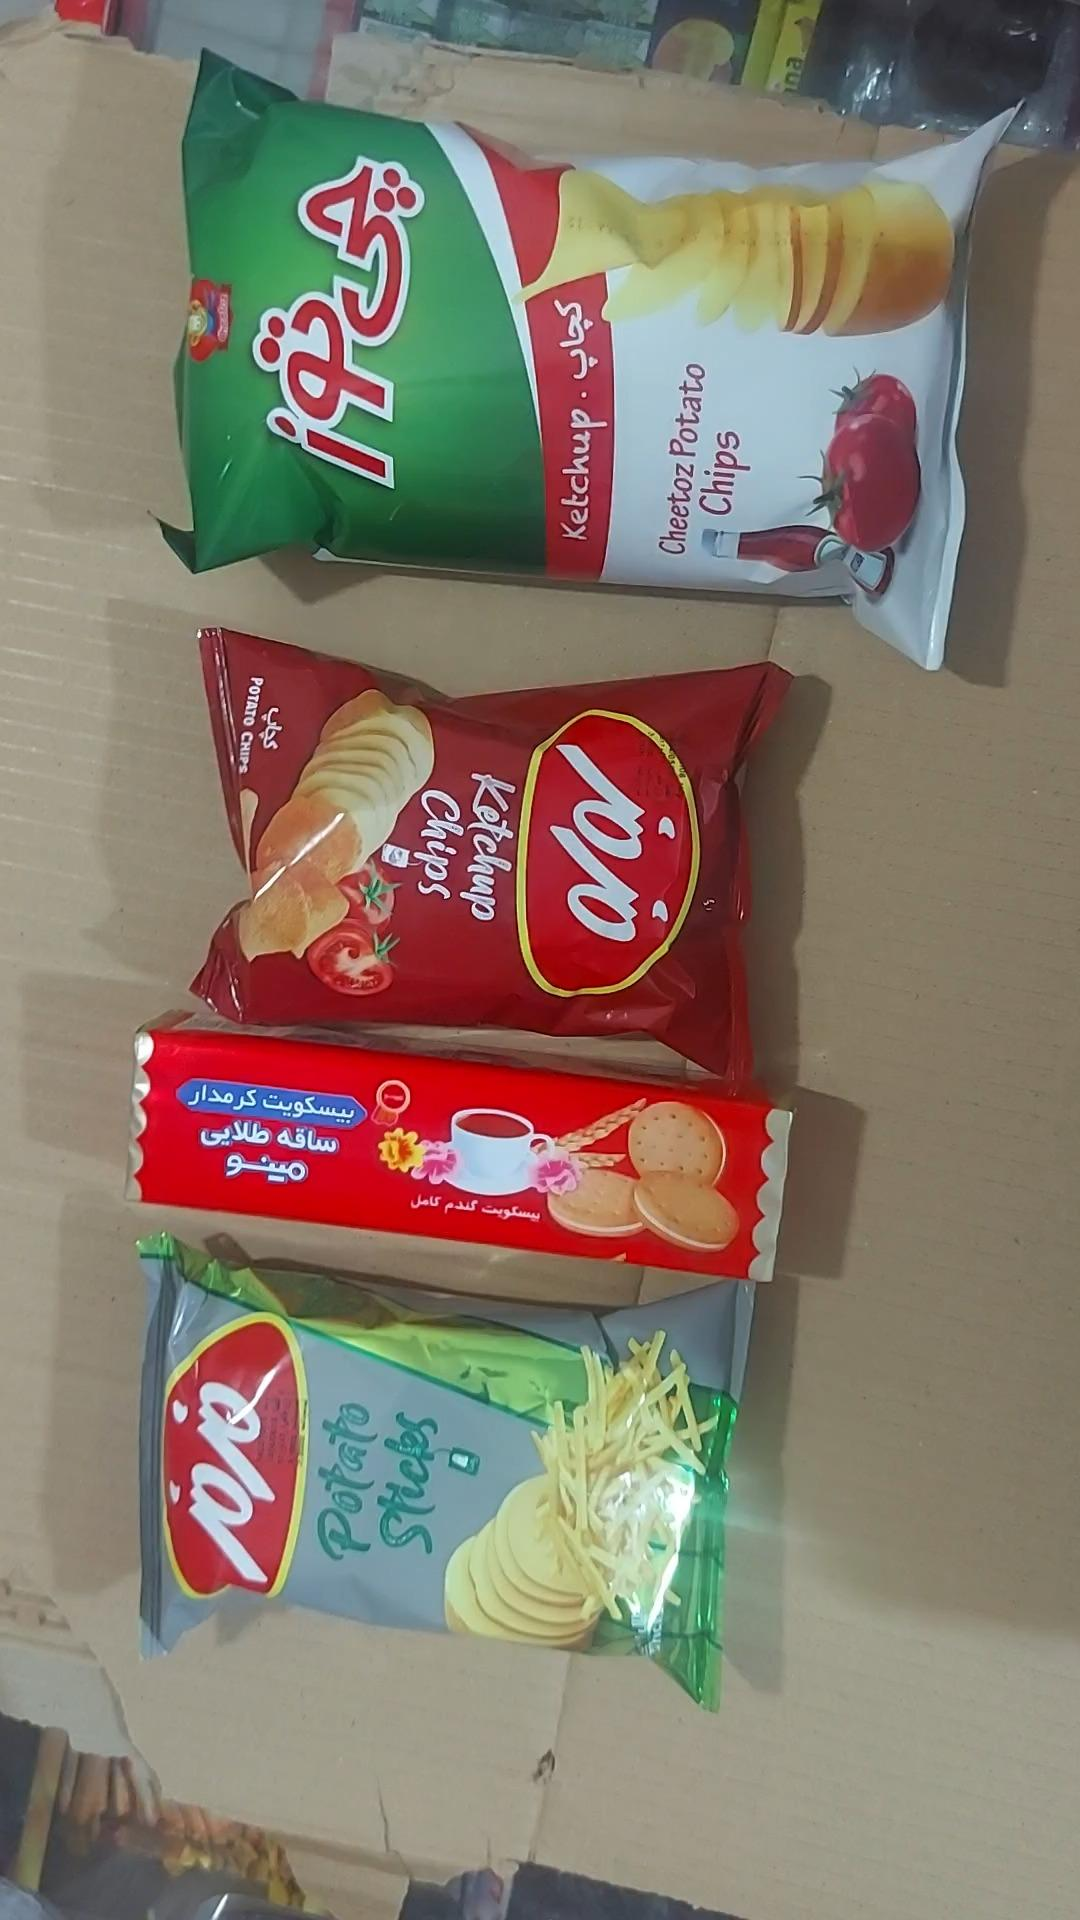Cheetoz ketchup chips: (154, 51, 1021, 674)
Maz Maz ketchup chips: (189, 629, 790, 1089)
Maz Maz potato sticks: (135, 1234, 753, 1716)
Minoo cream biscuit: (125, 1010, 796, 1284)
